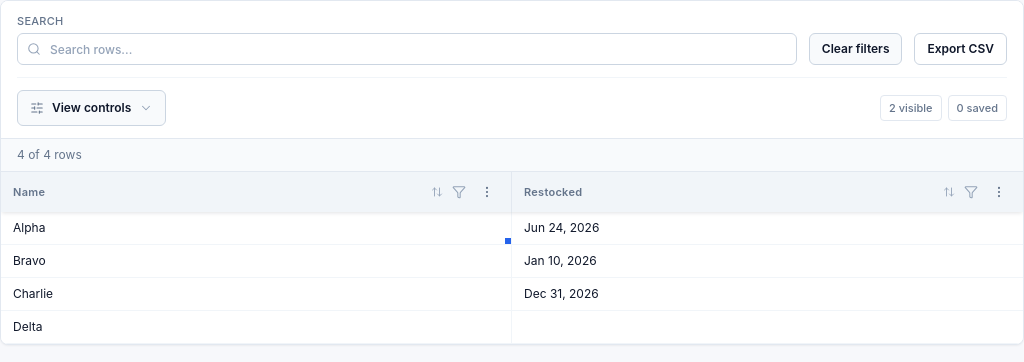
Test: DataGrid date data type › matches formatted date text in global search
This screenshot has width=1024, height=362.
Type "Jun 24" into the field labelled "Search" at (407, 49), box [17,33,797,65]
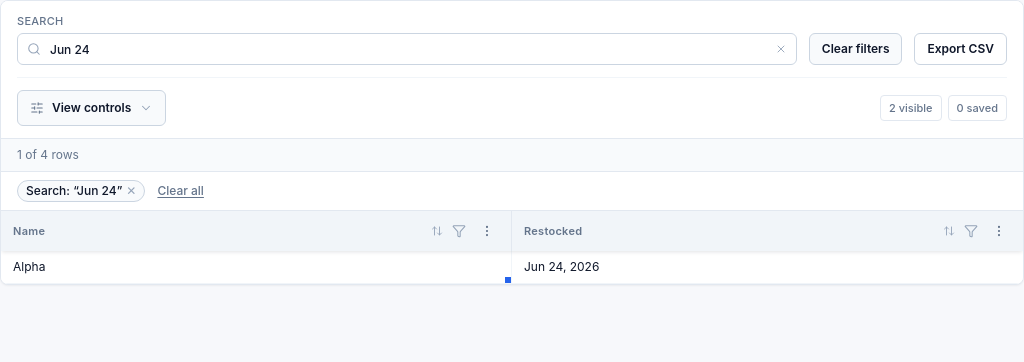
Expected: the text "Alpha" is shown, [1,251,512,284]
Expected: the text "Bravo" is gone
Expected: the text "Charlie" is gone
